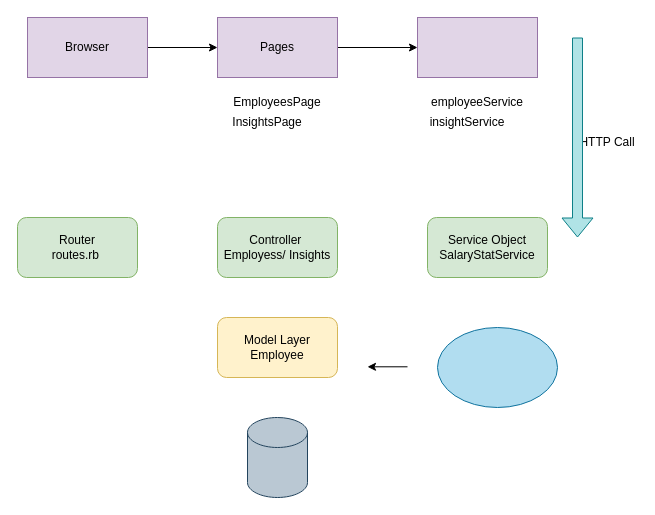
The diagram is 655 pixels wide and 515 high, and some of its shapes have lost their labels. Here are the shapes that lost their labels. From the top down, the centre of each, then its label:
At pixel 477 47: "Services".
At pixel 497 367: "Seeding 10K records".
At pixel 277 457: "Postgres".
